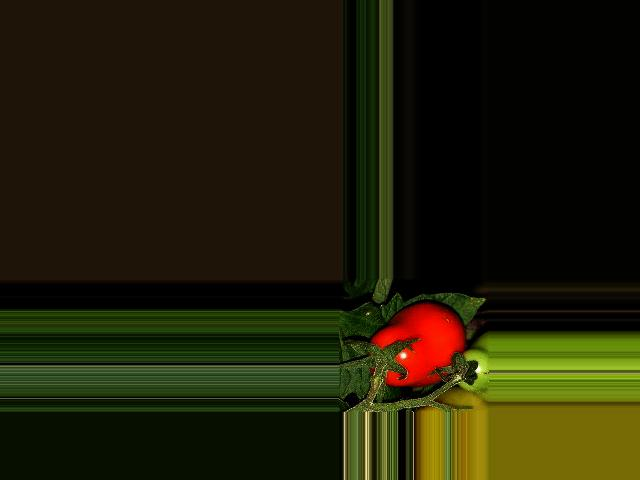tomato: (367, 301, 465, 386)
